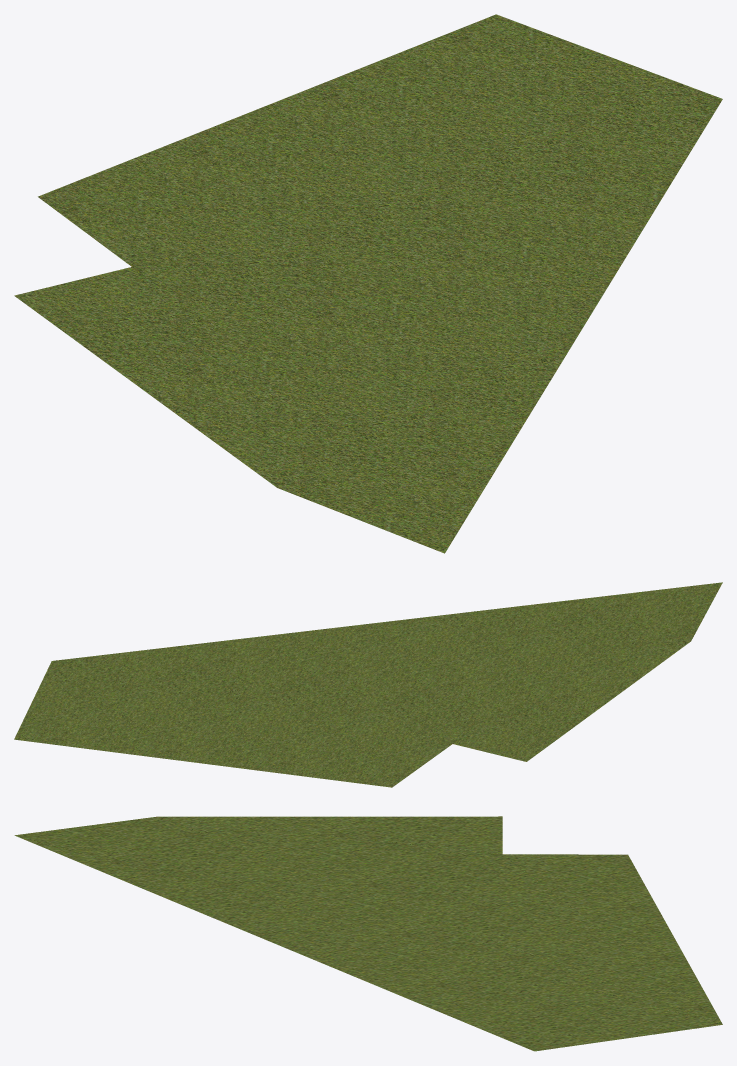
The model's file is pisoCesped.glb.
The picture shows the model from 3 angles, top to bottom: view 1: azimuth 30°, elevation 25°; view 2: azimuth 150°, elevation 25°; view 3: azimuth 270°, elevation 25°; orthographic projection. The views are drawn at different scales.
Parts seen in each view (by area): view 1: piso cesped cerca del lab.001; view 2: piso cesped cerca del lab.001; view 3: piso cesped cerca del lab.001.
Boxes of the visible parts, <box> form: piso cesped cerca del lab.001: <box>14,14,722,553</box>; piso cesped cerca del lab.001: <box>14,582,722,787</box>; piso cesped cerca del lab.001: <box>14,816,722,1051</box>.
Bounding box in the file's own units: 435 × 0 × 555.
1 material, 1 textured.
